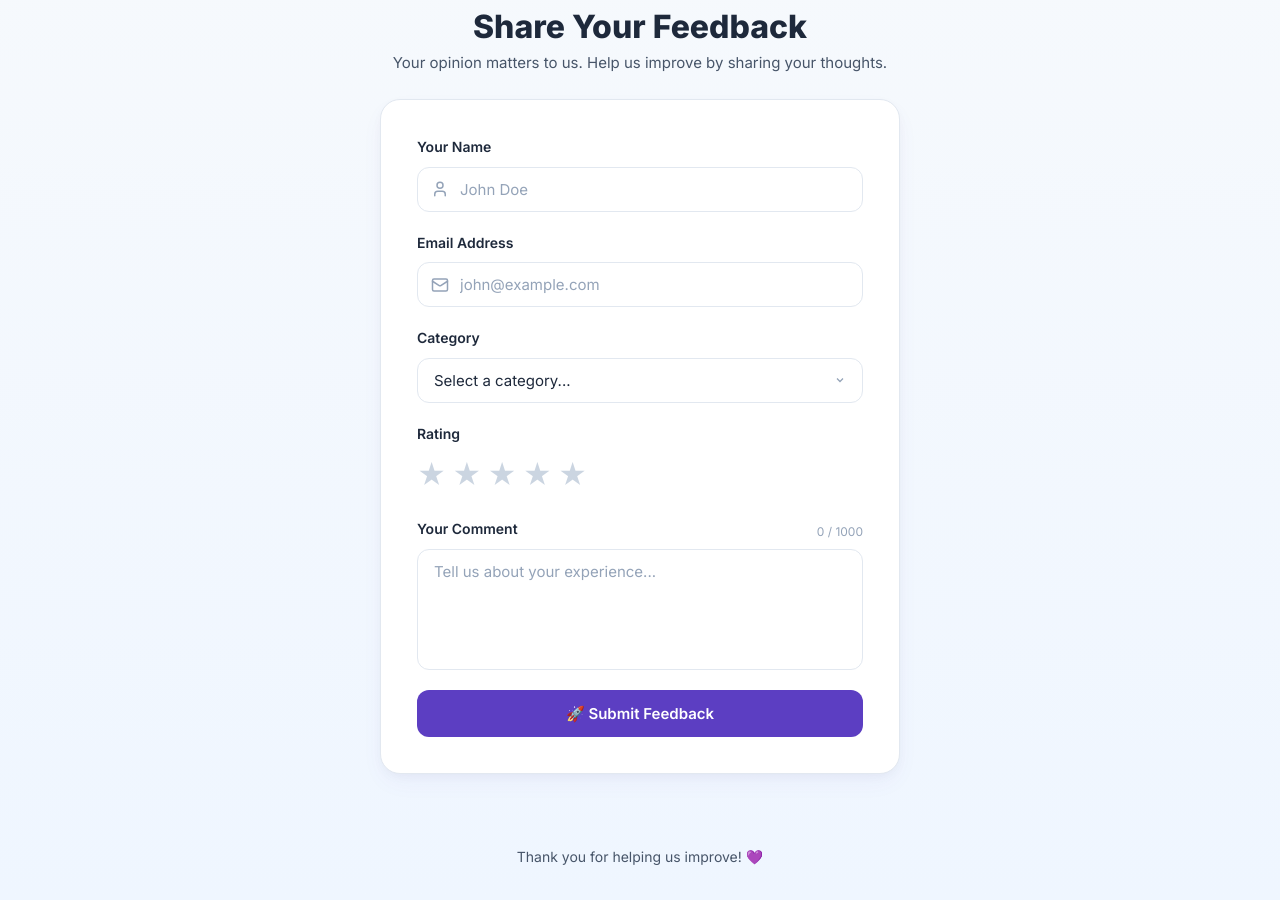
FeedbackPage › shows validation errors when submitting empty form
(page scrolled)
Check: the heading "Share Your Feedback" is shown, box [473, 7, 807, 46]
What coordinates should you click on to do the following:
click the button "🚀 Submit Feedback"
I would click on:
 (640, 713)
Its box is [417, 690, 863, 737].
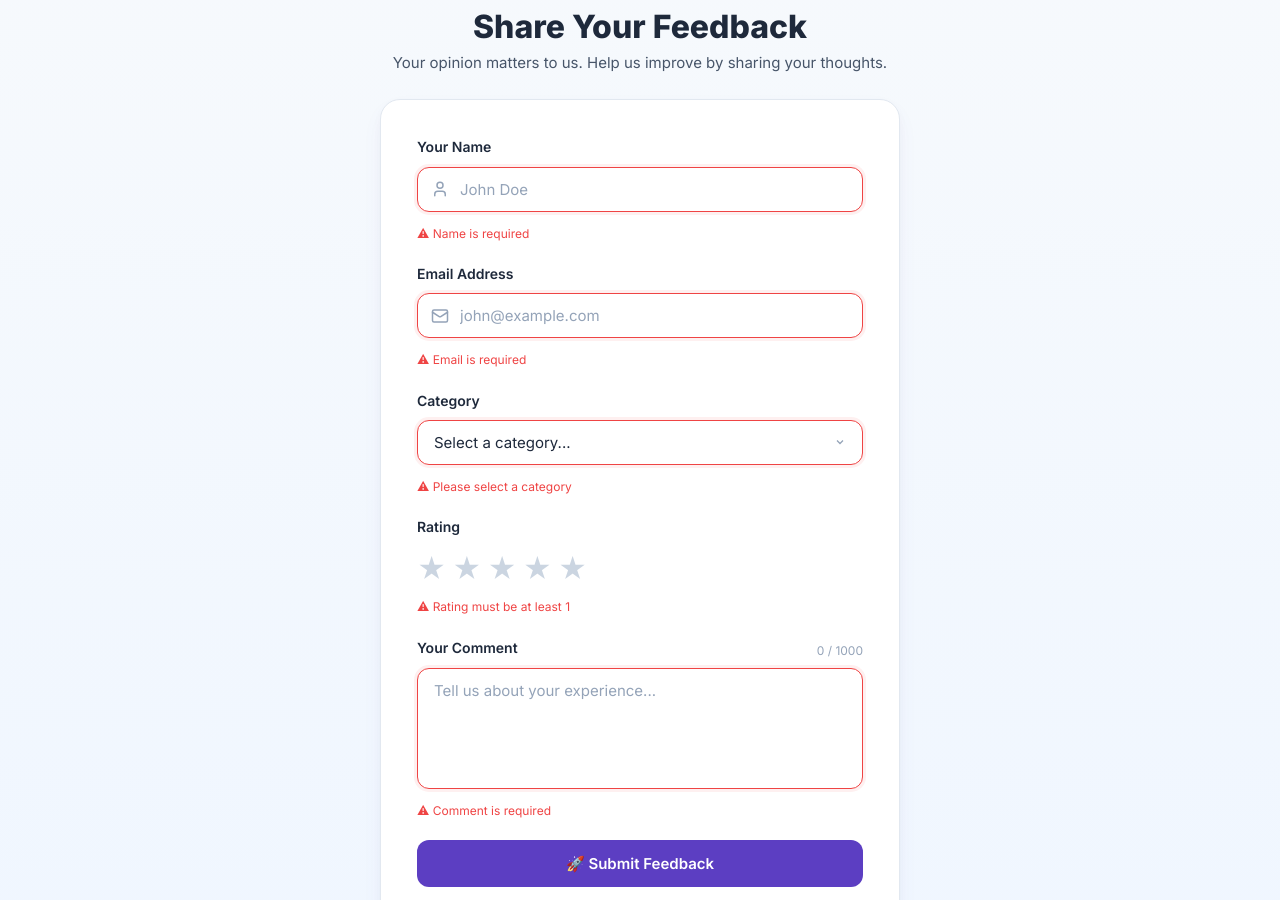
Check: the text "⚠ Name is required" is shown, box [417, 226, 529, 241]
